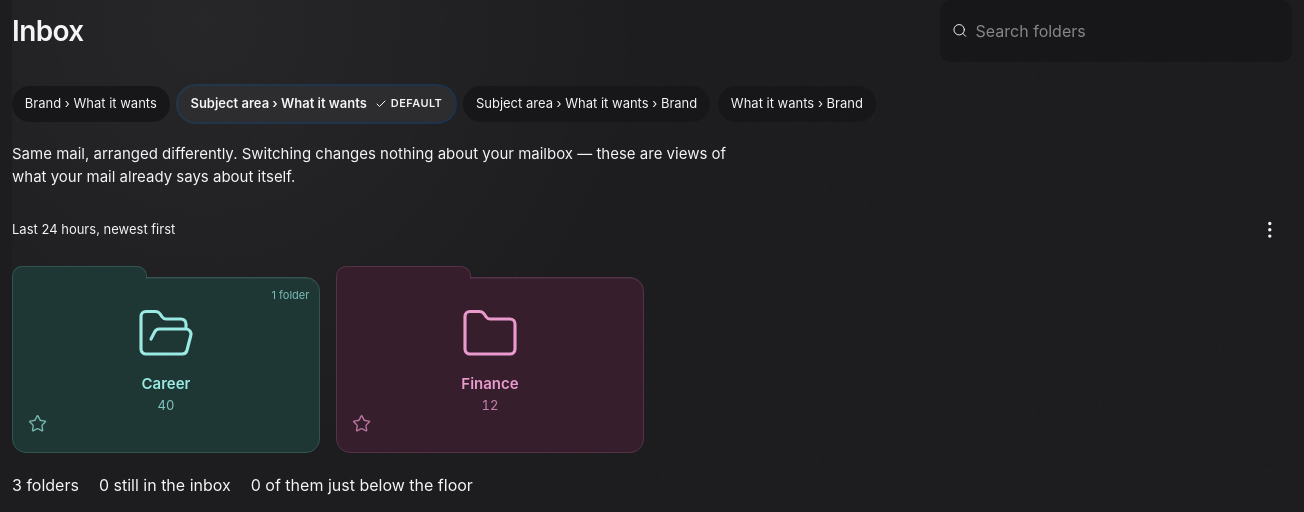
Test: InboxPage › searches the whole tree, not just the level in view
The image size is (1304, 512).
Expected: the text "Career" is shown, [142,374,190,394]
Type "job" into the search field labelled "Search folders" at (1128,31), box [976,9,1280,53]
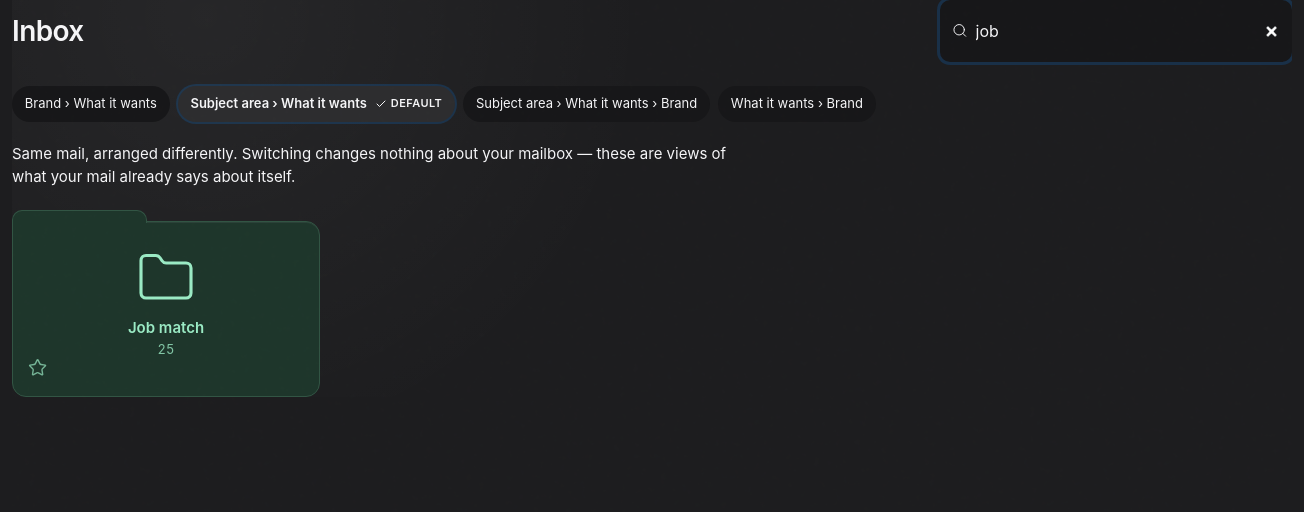
Now the text "Job match" is shown, box [128,318,204,338]
